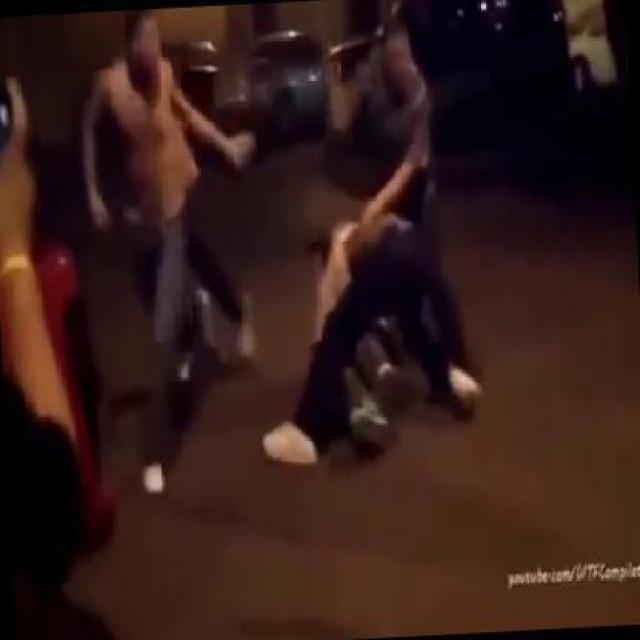fight: (284, 30, 450, 458)
